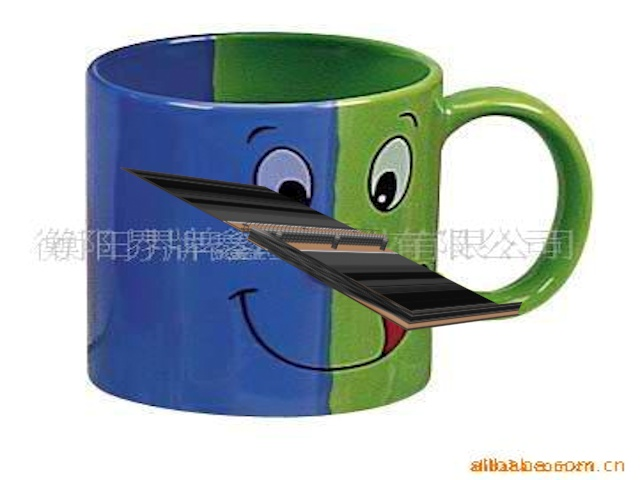paper_notebook: (121, 161, 529, 337)
